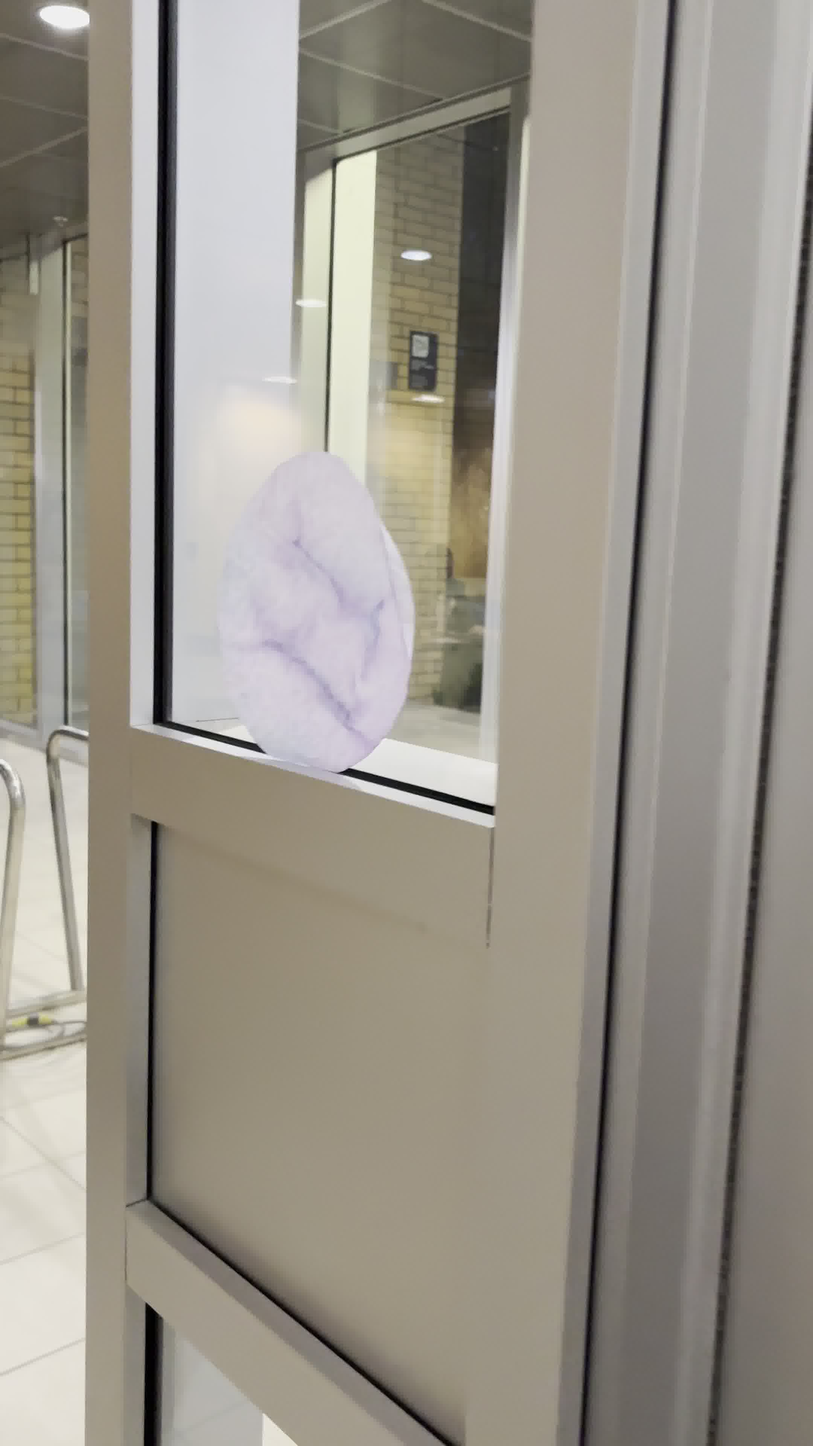Target: (212, 442, 418, 780)
